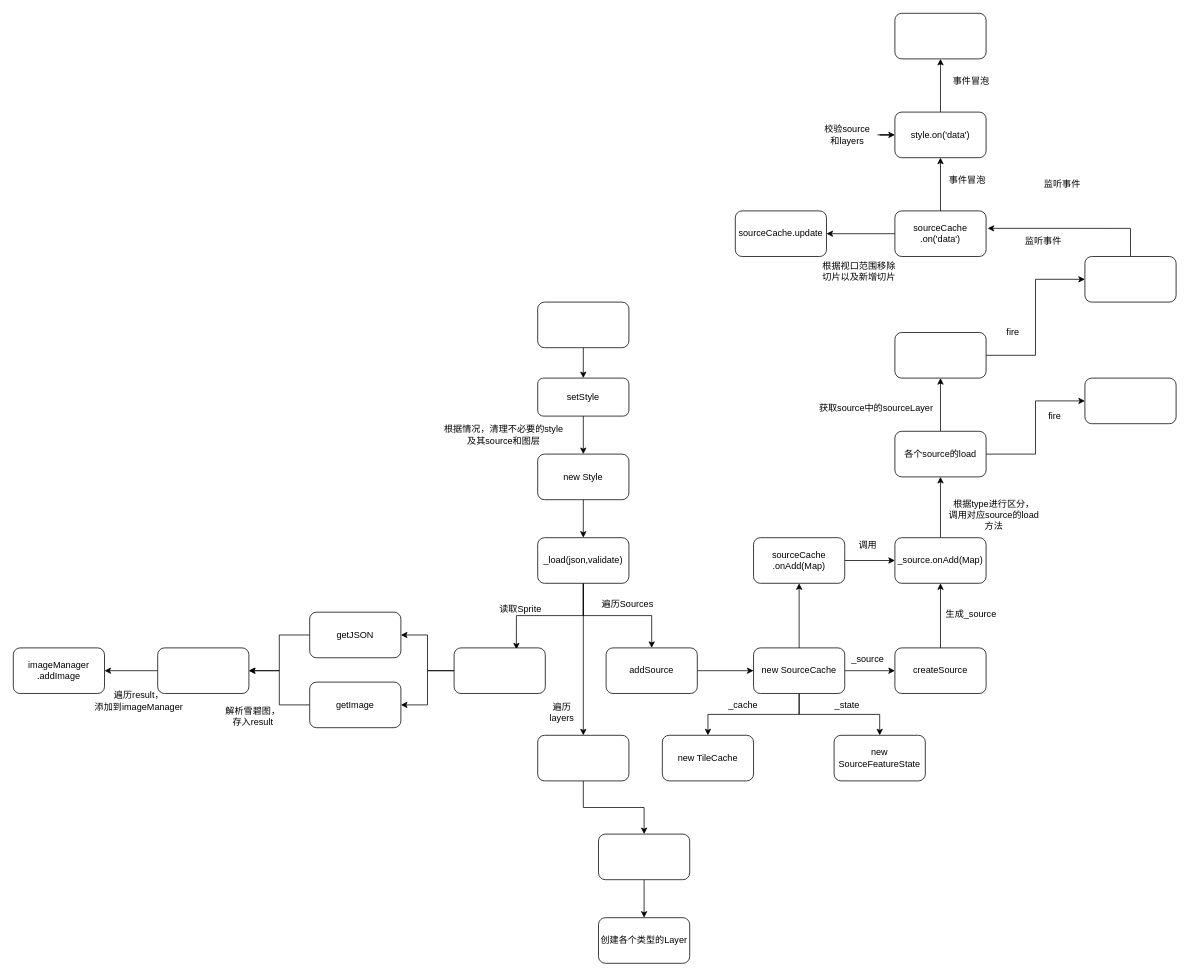
The diagram is 1189 pixels wide and 977 high, and some of its shapes have lost their labels. Each missing label, with the centre of its shape:
_loadSprite: (499,670)
createStyleLayer: (644,856)
data: (1130,279)
dataloading: (1130,400)
for of layers: (583,758)
loadTileJSON: (940,355)
map.on('data'): (940,36)
new mapboxgl.Map: (583,324)
雪碧图result: (203,670)
